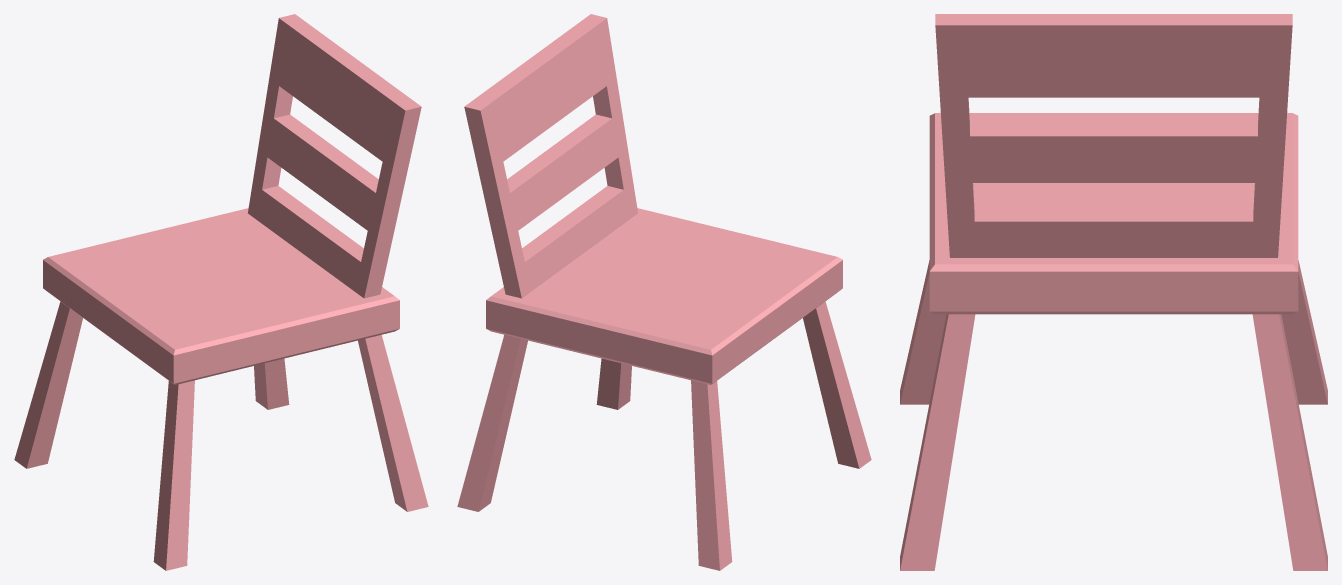
File: chair.fbx
3 views of the same model, side by side, from view 1: azimuth 30°, elevation 25°; view 2: azimuth 150°, elevation 25°; view 3: azimuth 270°, elevation 25° (orthographic). The views are drawn at different scales.
Visible parts, largest first — view 1: Cube; view 2: Cube; view 3: Cube.
Part boxes in pixels (left/top/right/bottom): Cube: left=14, top=14, right=428, bottom=570; Cube: left=457, top=14, right=871, bottom=570; Cube: left=900, top=14, right=1327, bottom=570.
Size of the model in its own units: 32.94 by 45.72 by 32.25.
1 material, 1 textured.
